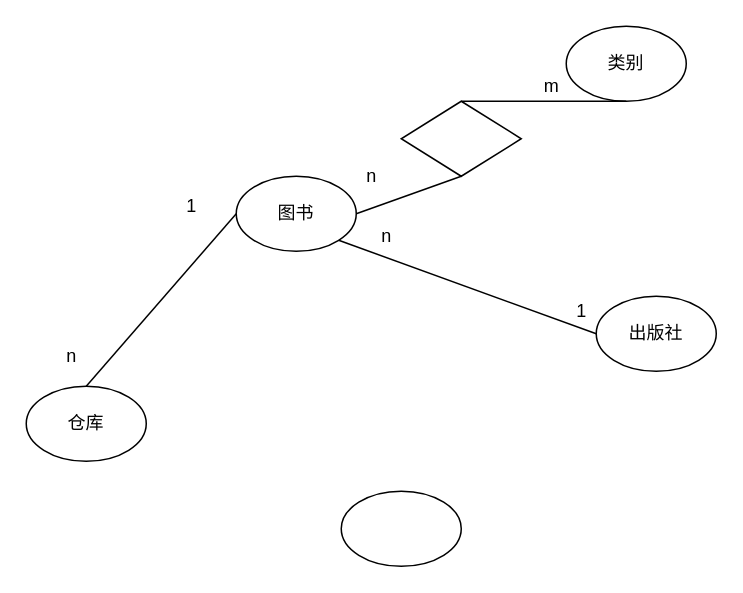
Some shapes in this 743 by 593 pixel diagram are drawn without their labels. The shapes that lost their labels are listed below. From the top down, each one's box as (x1, y1, x2, y2) in pixels, then its label:
(400, 100, 521, 176): 图书-类别
(340, 490, 461, 566): 用户
